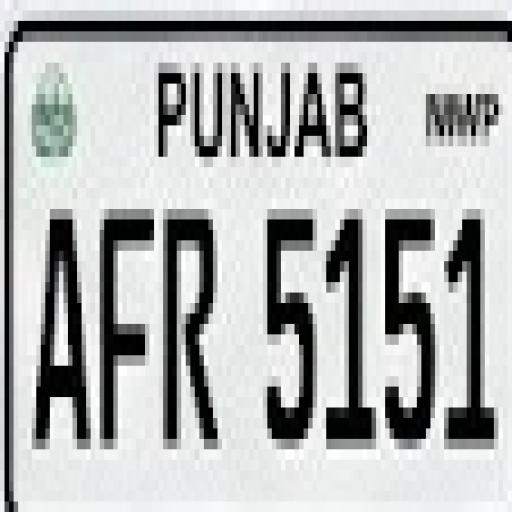1: (445, 201, 504, 456), (321, 196, 375, 467)
5: (377, 192, 441, 466), (261, 203, 318, 469)
A: (29, 208, 92, 467)
F: (94, 198, 156, 470)
R: (158, 203, 231, 464)
